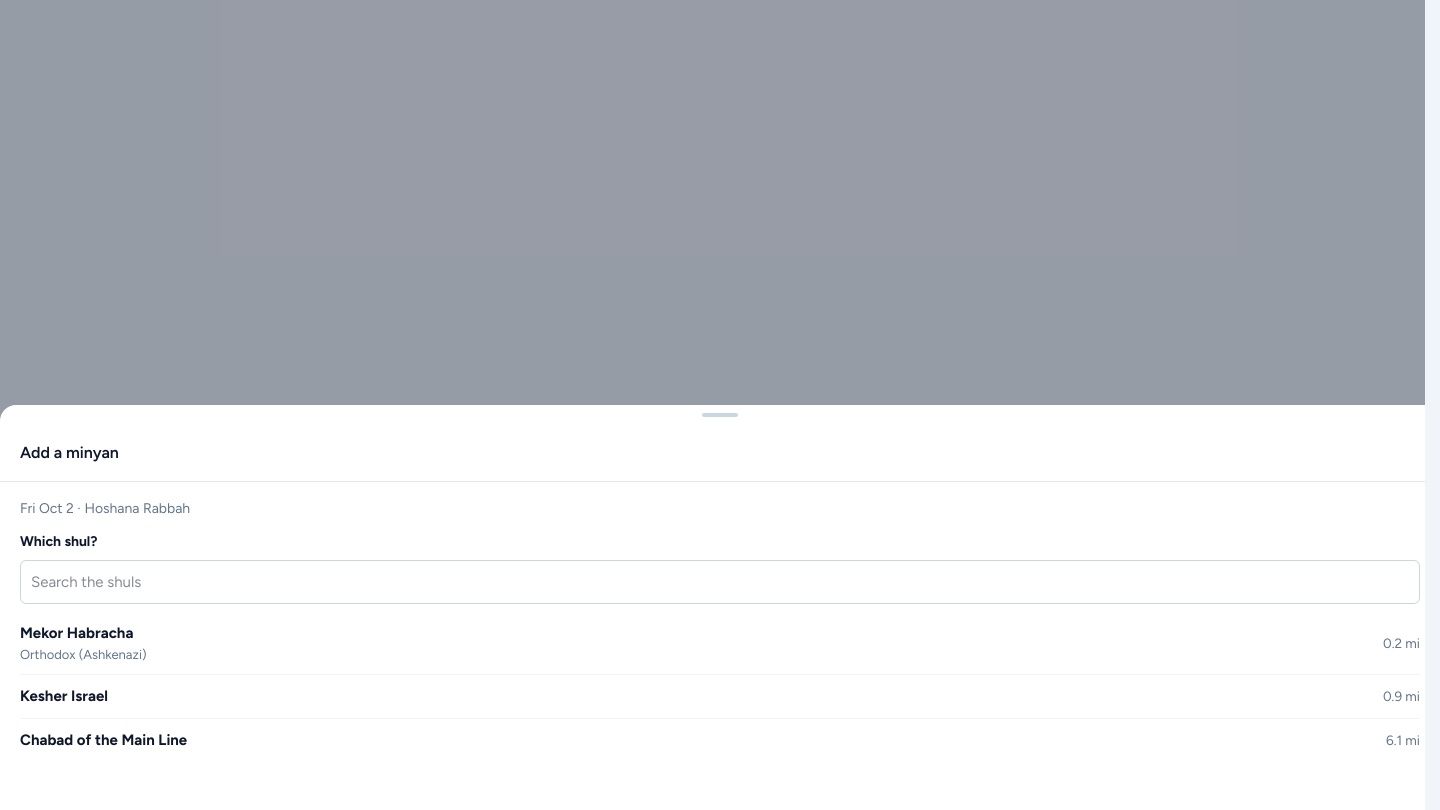
Test case: + Add a minyan (the user’s note 2) › Back is the header’s chevron, to “Which shul?”; no “Change” line, and none when the search named the shul
Click the button "Mekor Habracha Orthodox (Ashkenazi) 0.2 mi". click: (77, 633)
box: x1=20 y1=612 x2=1420 y2=674
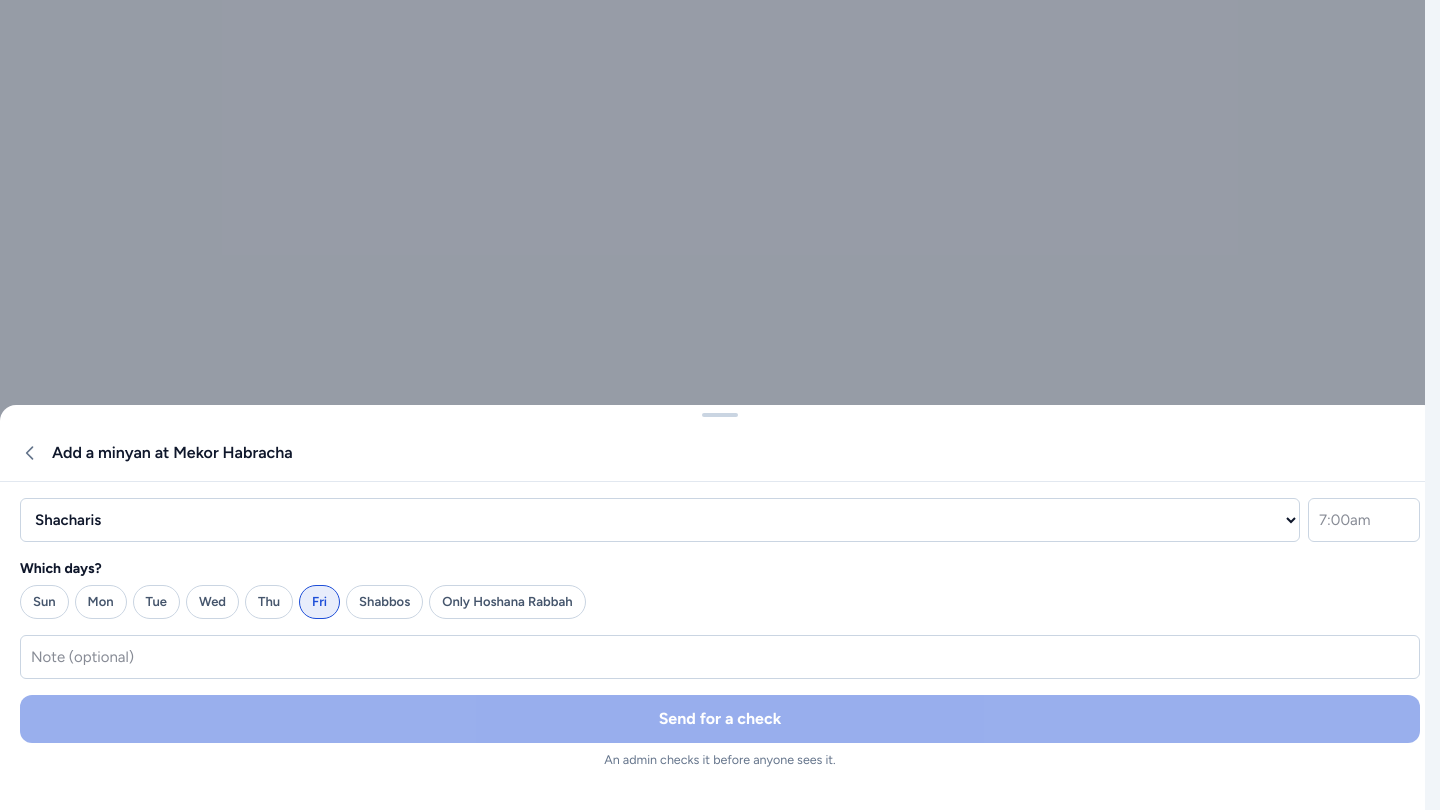
Click the button named "Back". click: (30, 453)
box: x1=16 y1=439 x2=44 y2=467
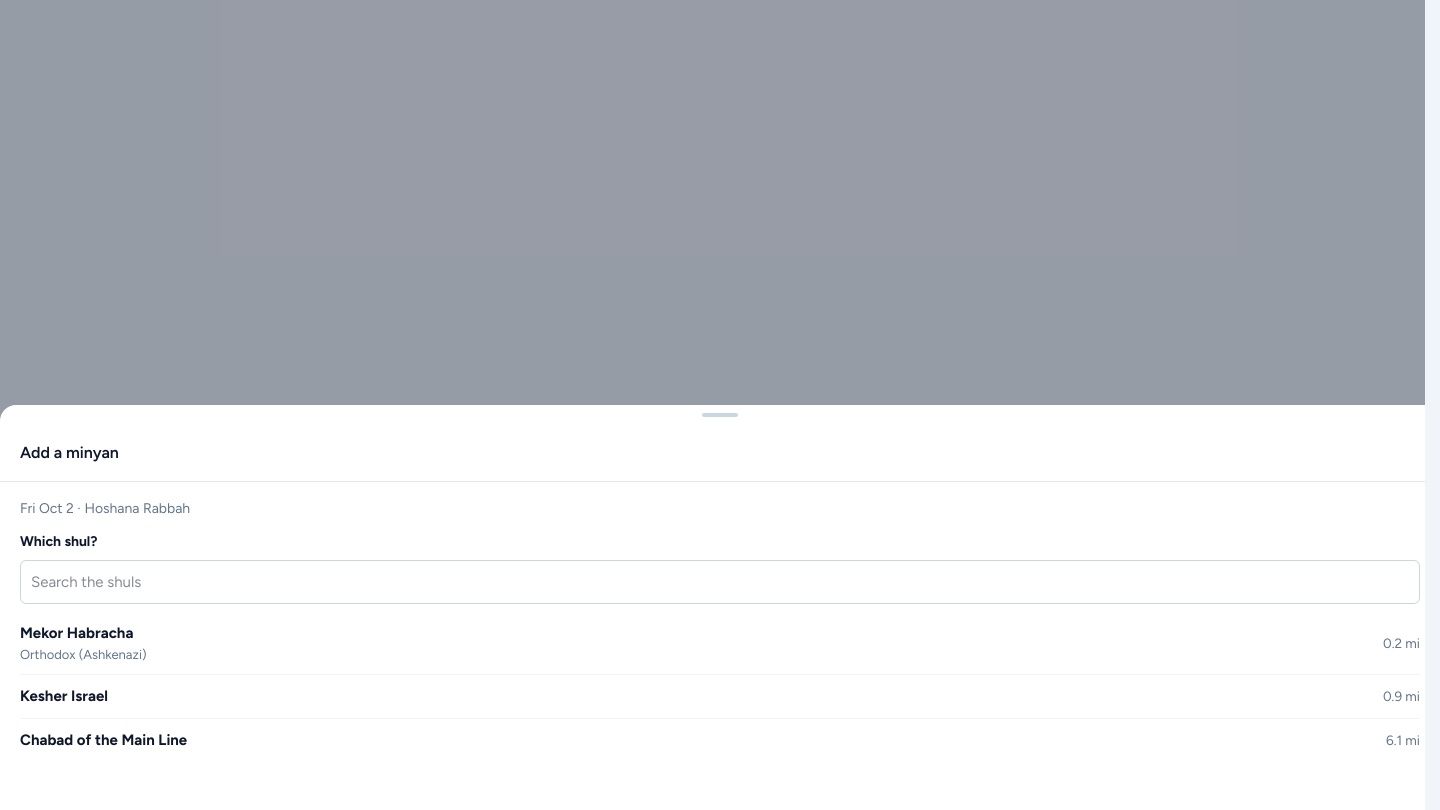
Check: the element with test id "add-minyan-shul" is shown, box x1=20 y1=498 x2=1420 y2=761
